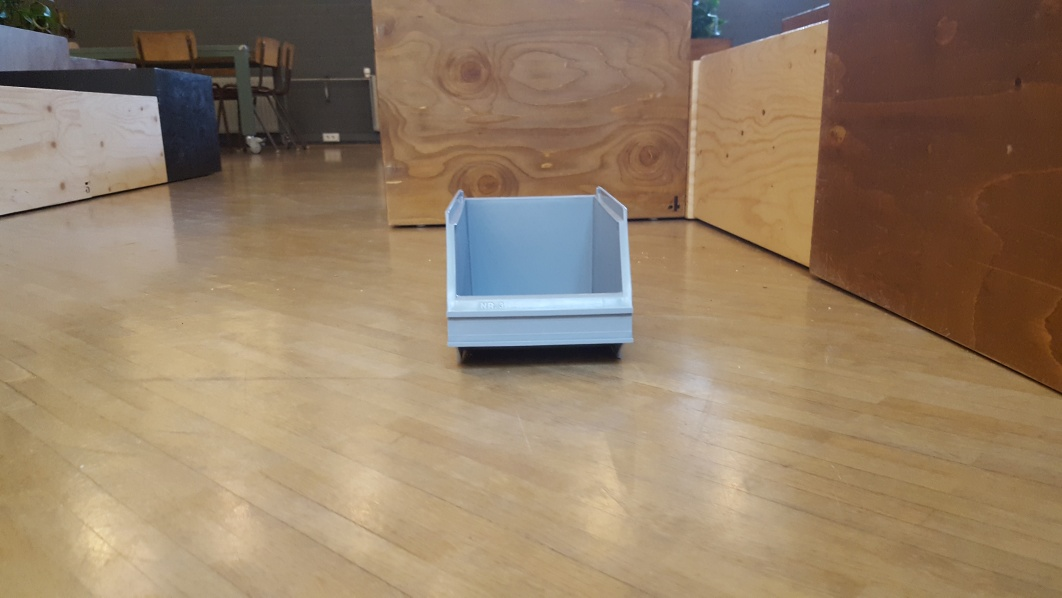tray: (443, 184, 637, 365)
